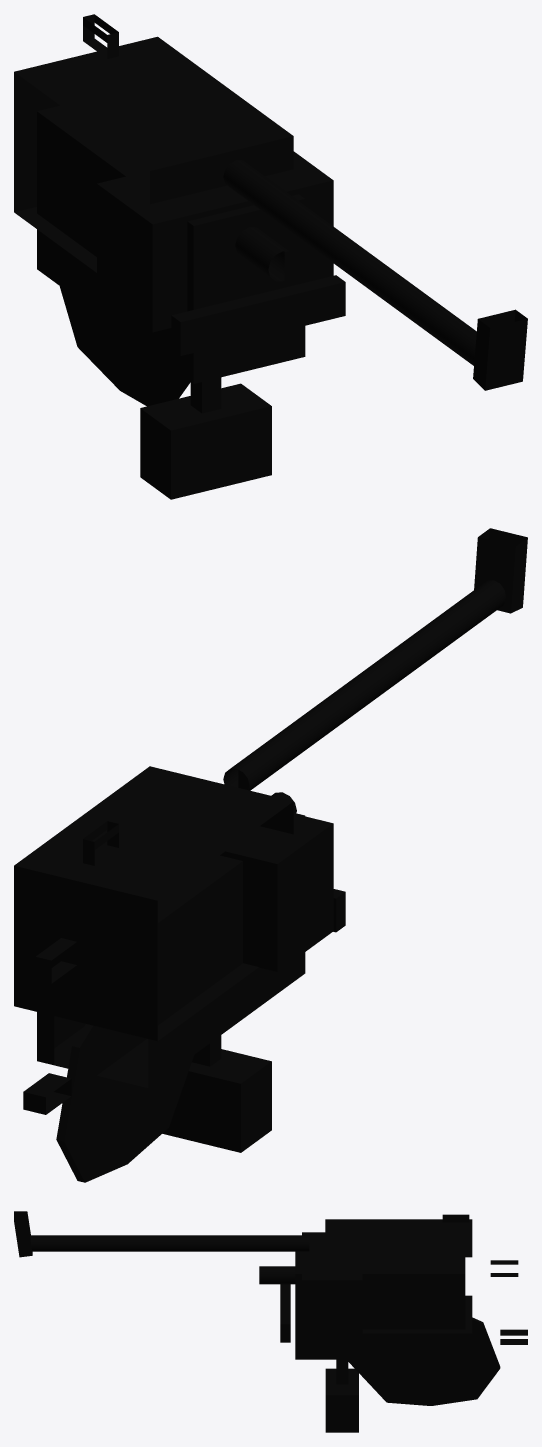
The model's file is section-3.obj.
3 views of the same model, one above another, from view 1: azimuth 30°, elevation 25°; view 2: azimuth 150°, elevation 25°; view 3: azimuth 270°, elevation 25° (orthographic). The views are drawn at different scales.
Bounding box in the file's own units: 0.4695 × 0.9294 × 2.13.
